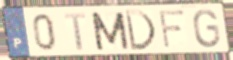0: (31, 12, 60, 53)
D: (123, 9, 158, 52)
F: (157, 8, 187, 50)
G: (192, 8, 222, 49)
M: (89, 11, 132, 52)
T: (62, 12, 88, 52)
